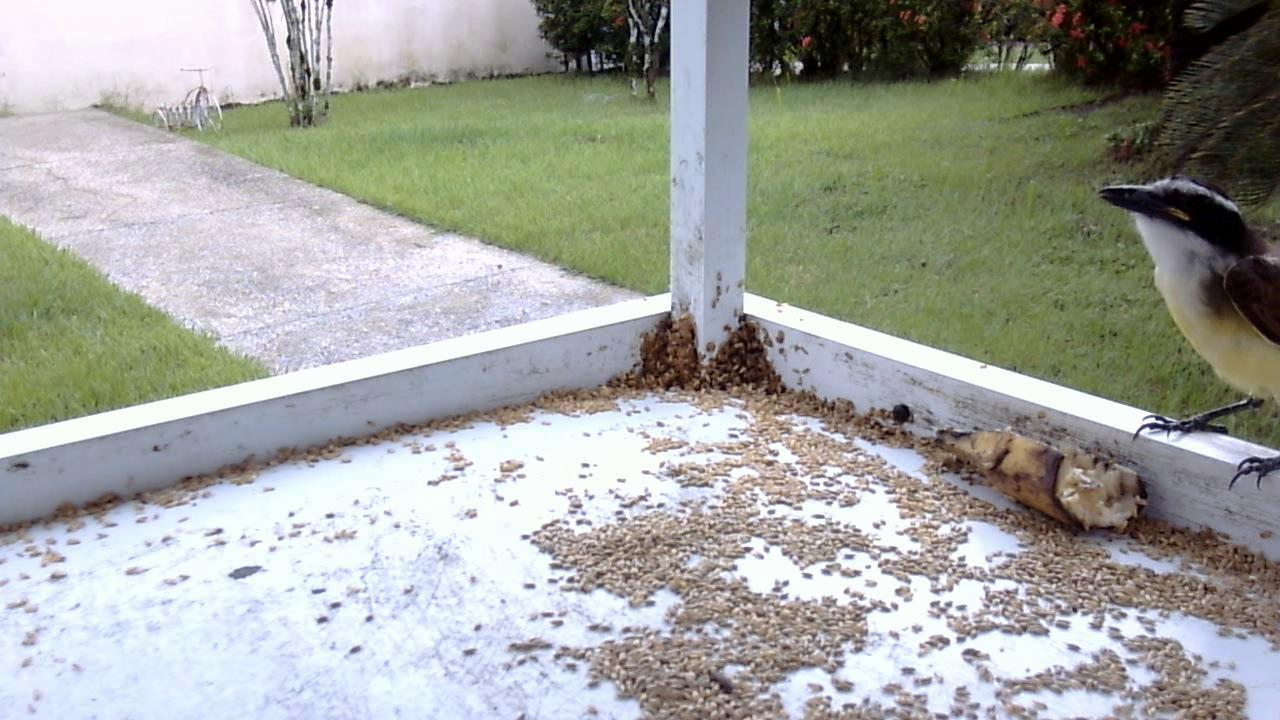bem_te_vi: (1089, 155, 1278, 513)
